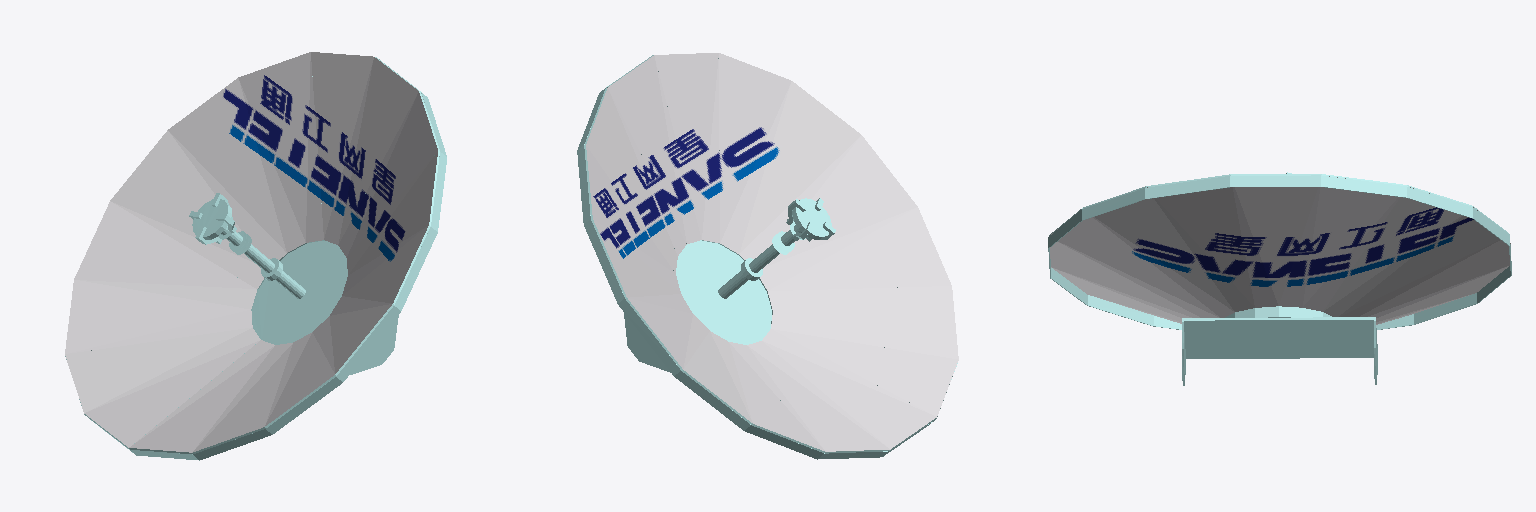
3 views of the same model, side by side, from view 1: azimuth 30°, elevation 25°; view 2: azimuth 150°, elevation 25°; view 3: azimuth 270°, elevation 25° (orthographic).
Size of the model in its own units: 0.7191 by 0.6956 by 0.9736.
2 materials, 1 textured.